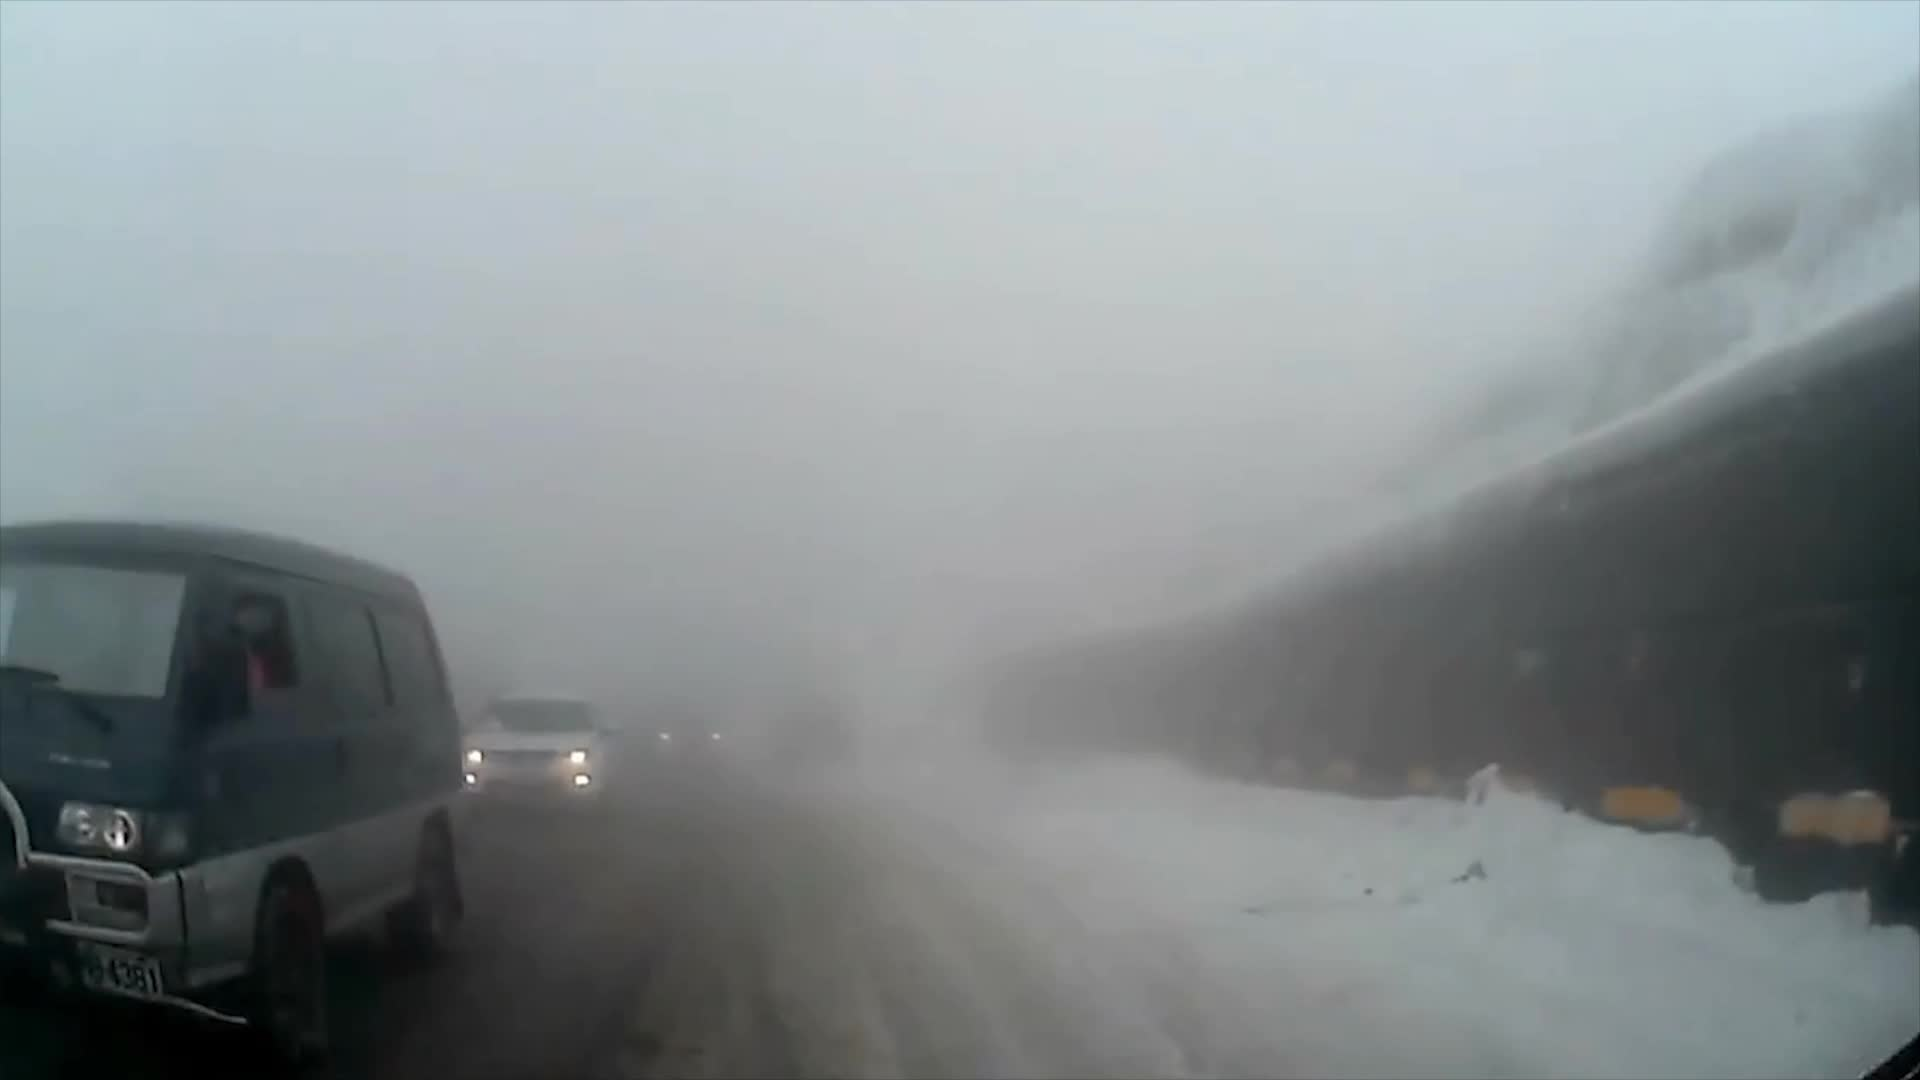vehicle: (0, 516, 468, 1073), (458, 696, 617, 824)
